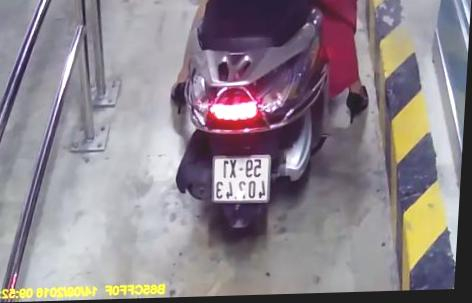License_Plate: (204, 145, 281, 206)
